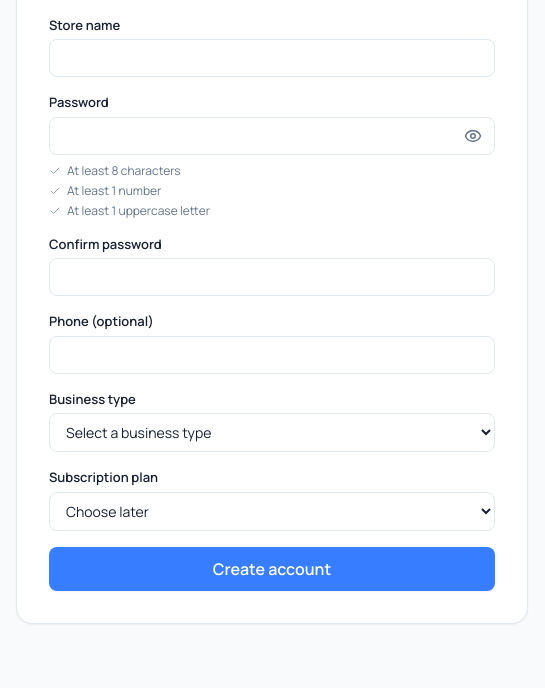
it: SignUpPage › flags a missing store name
(page scrolled)
What coordinates should you click on to do the following:
click the button "Create account"
I would click on:
 (272, 569)
Its box is [49,547,495,591].
(page scrolled)
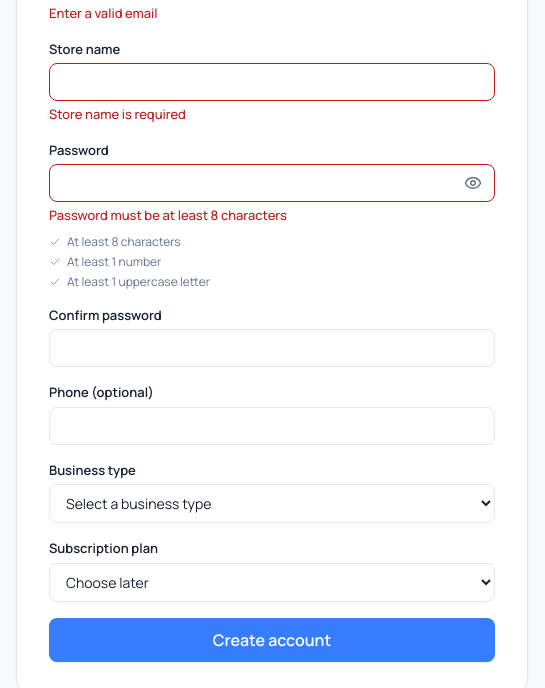
Expected: the text "Store name is required" is shown, [49,105,186,123]
